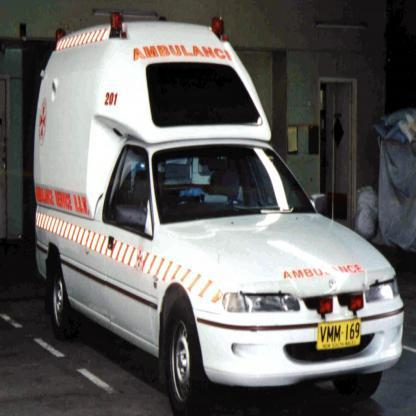Ambulance - v1 Ambulance last generate: (33, 10, 403, 414)
